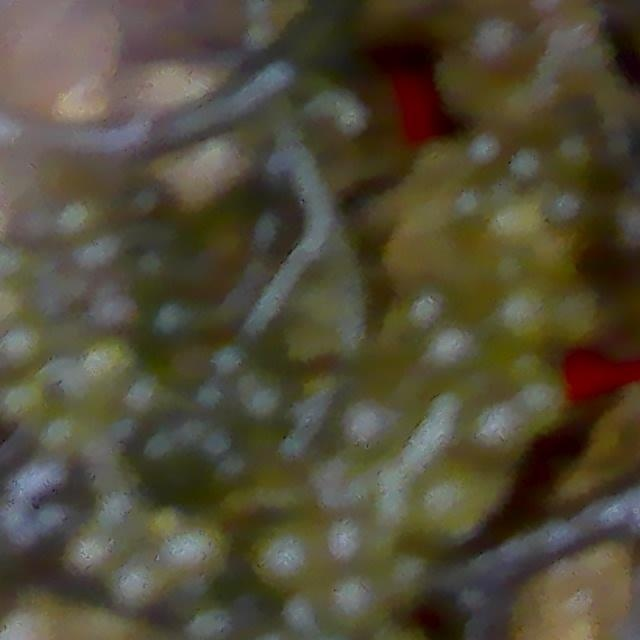SeaGrape: (414, 461, 487, 539), (464, 20, 533, 97), (253, 524, 324, 593), (87, 287, 141, 341), (459, 130, 513, 178)
